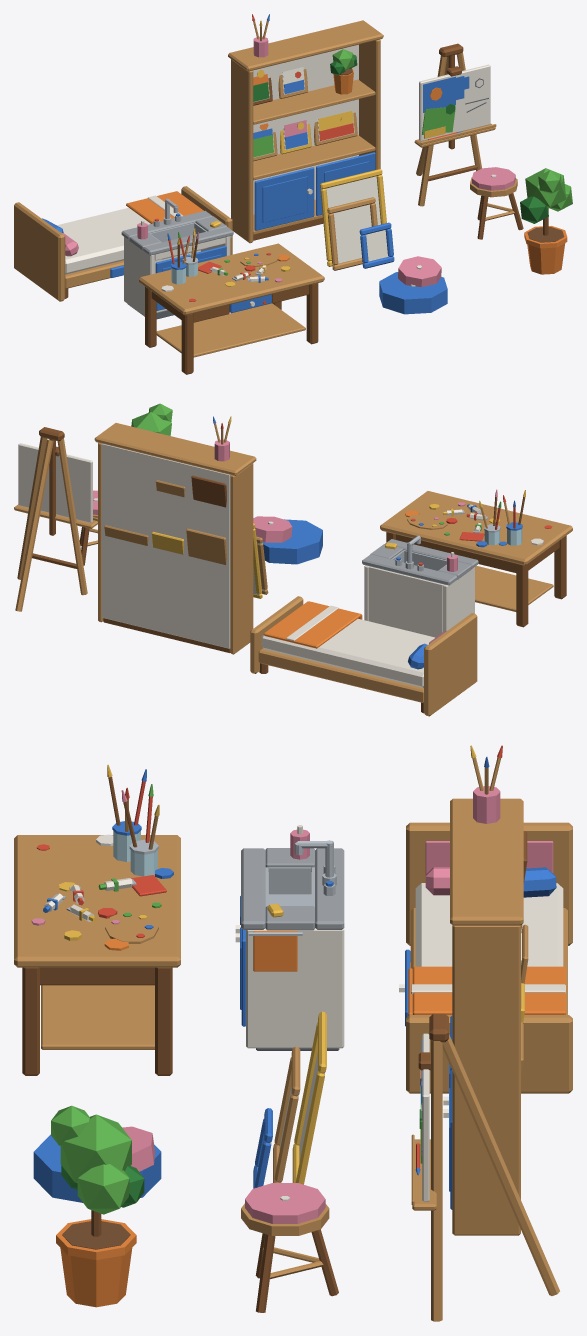
The model's file is cosy-art-studio-set.glb.
3 views of the same model, one above another, from view 1: azimuth 30°, elevation 25°; view 2: azimuth 150°, elevation 25°; view 3: azimuth 270°, elevation 25° (orthographic). The views are drawn at different scales.
Parts seen in each view (by area): view 1: Table_Top, Shelf_Side-1, Table_Shelf, Daybed_Headboard, Shelf_Back, Daybed_Mattress, Shelf_Top, Easel_Canvas, Shelf_Board1, Shelf_Side1, Shelf_Board2, Cushion_Floor_Big (+27 smaller); view 2: Shelf_Back, Table_Top, Daybed_Mattress, Shelf_Side-1, Sink_BackPanel, Daybed_Headboard, Shelf_Top, Easel_Canvas, Daybed_Base, Daybed_Blanket, Table_Shelf, Cushion_Floor_Big (+22 smaller); view 3: Shelf_Side1, Table_Top, Sink_Side1, Shelf_Top, Table_Shelf, Daybed_Footboard, Daybed_Mattress, Daybed_Headboard, Daybed_Blanket, Easel_Leg_Back, Easel_Leg_R, Plant_Leaves0 (+30 smaller).
Boxes of the visible parts, box(x1,y1,x2,y2) form: Table_Top: box(139, 243, 324, 315); Shelf_Side-1: box(231, 59, 253, 243); Table_Shelf: box(156, 303, 305, 357); Daybed_Headboard: box(14, 202, 65, 301); Shelf_Back: box(253, 44, 358, 214); Daybed_Mattress: box(57, 207, 150, 274); Shelf_Top: box(228, 20, 383, 71); Easel_Canvas: box(419, 64, 490, 141); Shelf_Board1: box(253, 135, 375, 180); Shelf_Side1: box(359, 39, 380, 169); Shelf_Board2: box(253, 79, 375, 124); Cushion_Floor_Big: box(379, 272, 447, 314); Shelf_Back: box(101, 443, 230, 648); Table_Top: box(380, 491, 572, 565); Daybed_Mattress: box(261, 618, 434, 687); Shelf_Side-1: box(230, 463, 253, 654); Sink_BackPanel: box(368, 566, 443, 637); Daybed_Headboard: box(424, 613, 477, 716); Shelf_Top: box(94, 423, 256, 475); Easel_Canvas: box(18, 443, 92, 522); Daybed_Base: box(258, 648, 423, 703); Daybed_Blanket: box(263, 601, 360, 648); Table_Shelf: box(475, 566, 553, 611); Cushion_Floor_Big: box(262, 519, 322, 564); Shelf_Side1: box(452, 925, 520, 1235); Table_Top: box(14, 835, 180, 967); Sink_Side1: box(246, 928, 344, 1048); Shelf_Top: box(450, 798, 523, 925); Table_Shelf: box(41, 985, 154, 1049); Daybed_Footboard: box(406, 1015, 572, 1093); Daybed_Mattress: box(415, 883, 563, 966); Daybed_Headboard: box(406, 822, 572, 945); Daybed_Blanket: box(412, 966, 565, 1014); Easel_Leg_Back: box(442, 1035, 559, 1295); Easel_Leg_R: box(431, 1040, 442, 1321); Plant_Leaves0: box(60, 1114, 131, 1182).
Size of the model in its own units: 18.62 by 8.74 by 11.37.
